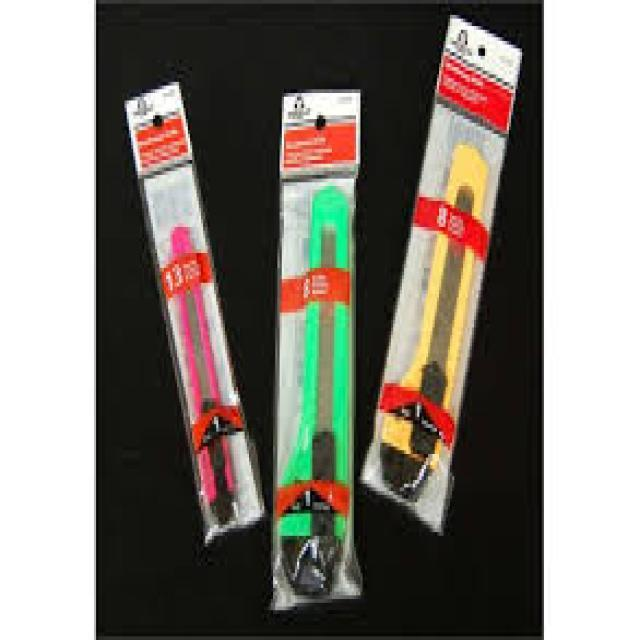cutter: (374, 143, 489, 512), (284, 184, 360, 606), (166, 217, 246, 534)
